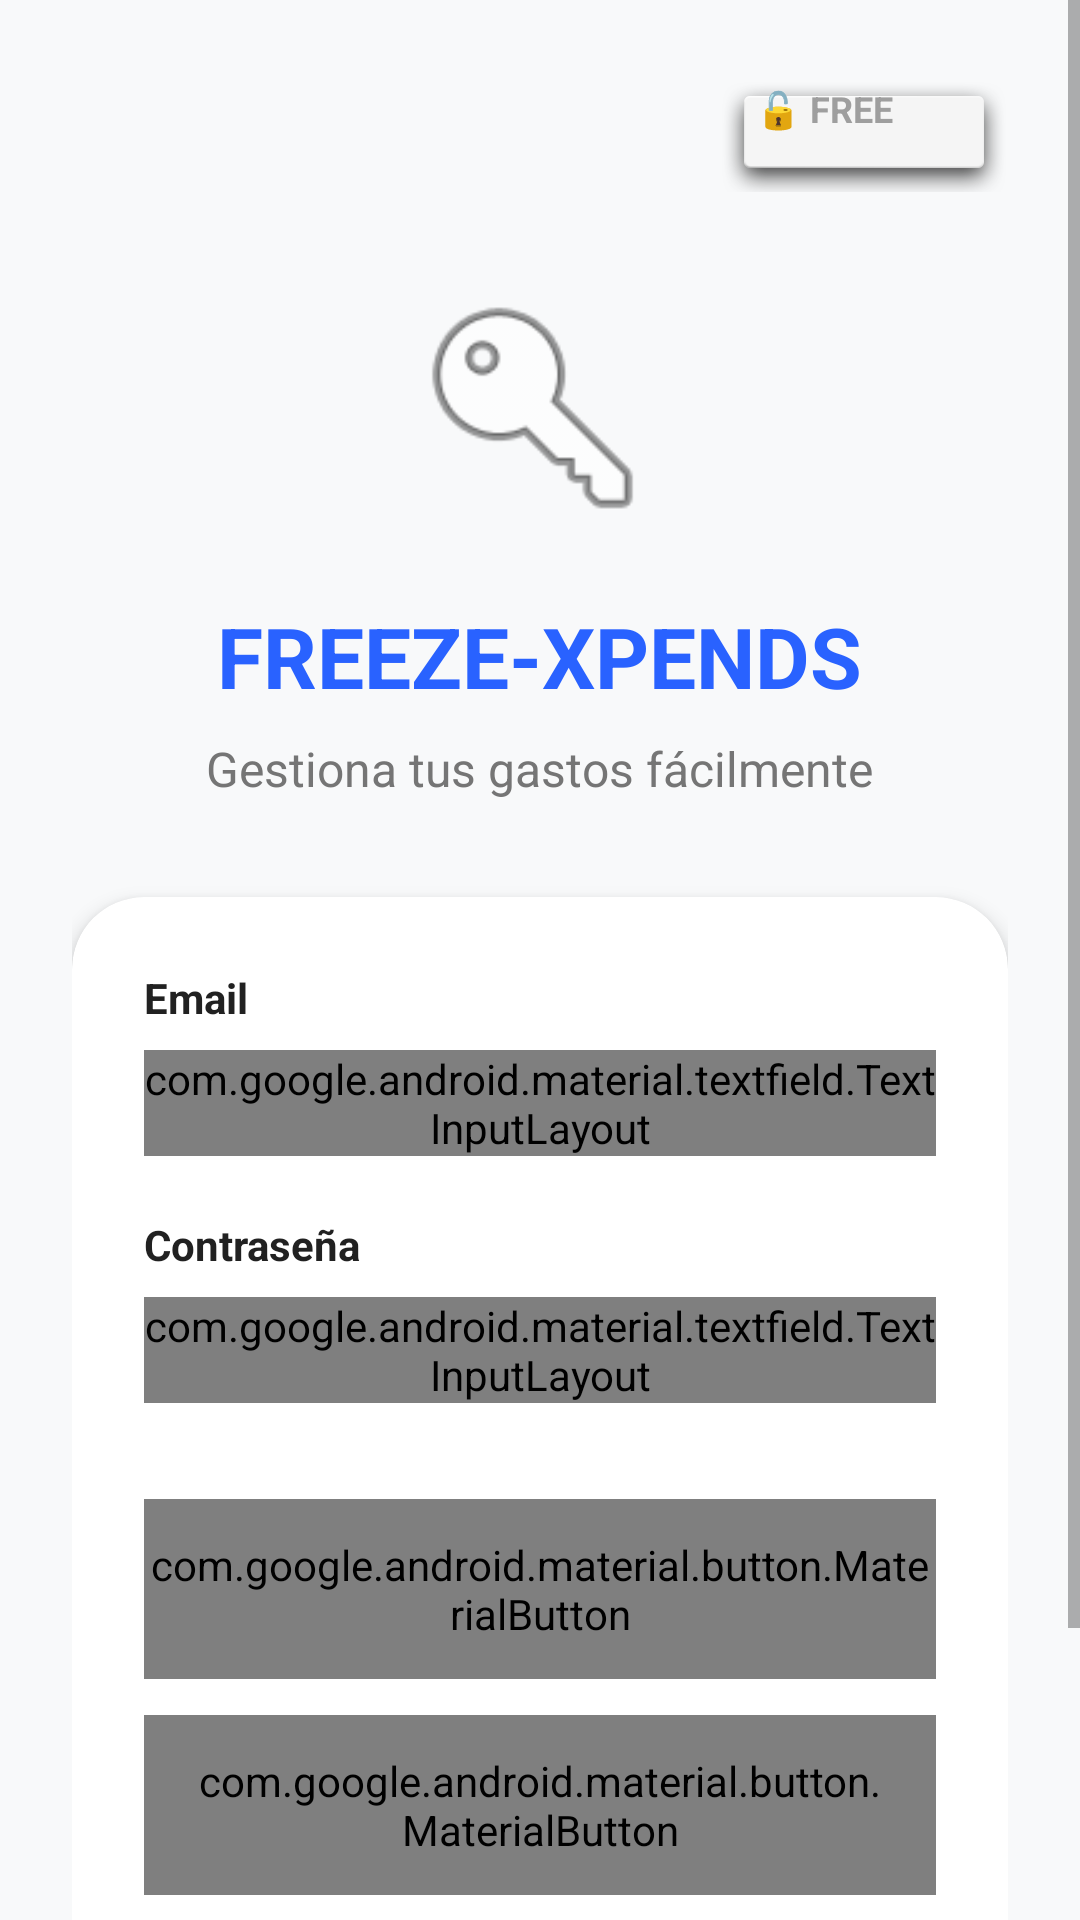

Icons on this 1080×1920 Android screen, each with the point to tap as (x=x, y=y):
login: (x=532, y=408)
